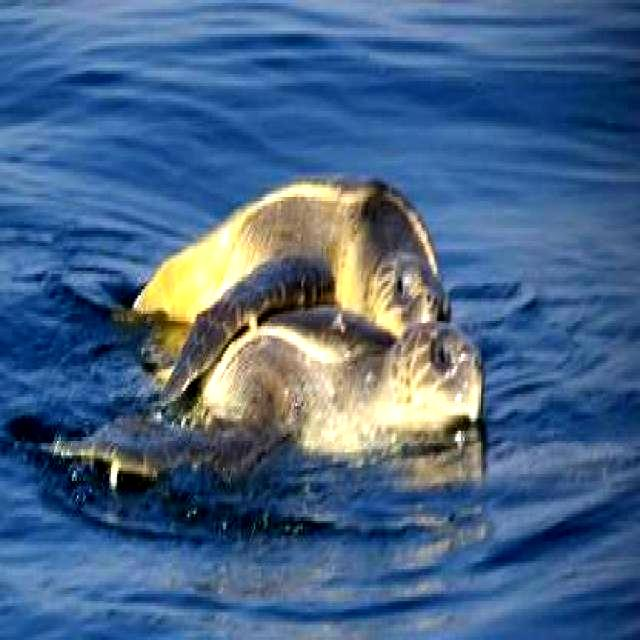Sea turtle: (154, 294, 493, 552), (108, 154, 450, 382)
